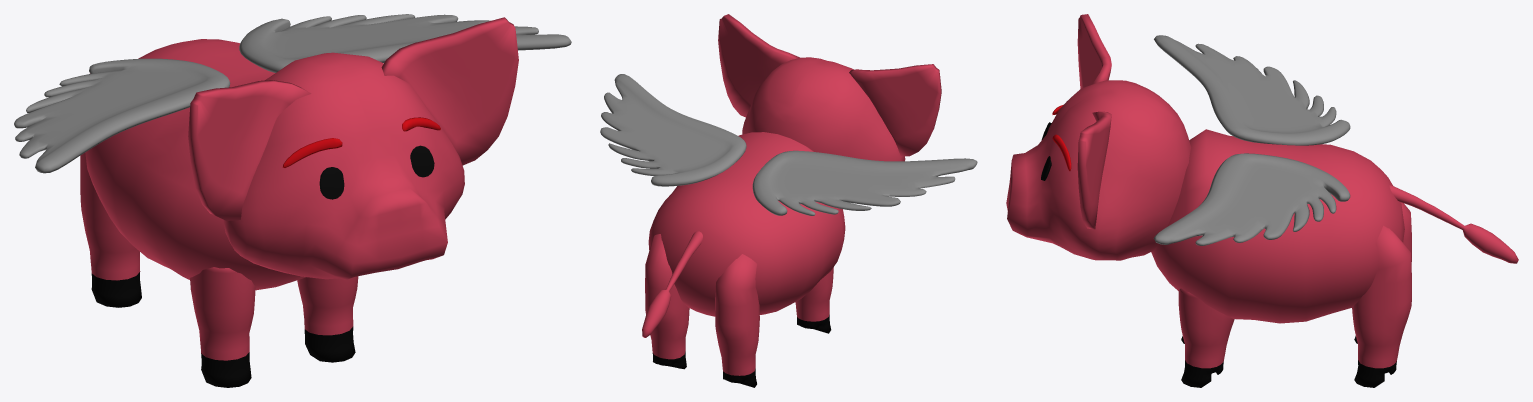
Rendered from Pig_low.fbx.
3 views of the same model, side by side, from view 1: azimuth 30°, elevation 25°; view 2: azimuth 150°, elevation 25°; view 3: azimuth 270°, elevation 25° (orthographic). The views are drawn at different scales.
Parts seen in each view (by area): view 1: Head_low, Wings_low, Ear_low, Body_low, Front_low, BackLegs_low, Eyes_low, Eyebrows_low; view 2: Wings_low, Body_low, Head_low, Ear_low, BackLegs_low, Front_low, Tail_low; view 3: Body_low, Head_low, Wings_low, BackLegs_low, Ear_low, Front_low, Tail_low.
Boxes of the visible parts, x1,y1,x2,y2 form: Head_low: (223, 52, 464, 279); Wings_low: (14, 14, 571, 173); Ear_low: (188, 17, 518, 220); Body_low: (85, 39, 305, 290); Front_low: (190, 267, 358, 387); BackLegs_low: (80, 153, 141, 307); Eyes_low: (319, 145, 434, 199); Eyebrows_low: (282, 117, 440, 167); Wings_low: (600, 74, 977, 215); Body_low: (648, 132, 845, 316); Head_low: (742, 57, 905, 161); Ear_low: (718, 14, 941, 156); BackLegs_low: (645, 234, 759, 387); Front_low: (795, 267, 833, 333); Tail_low: (642, 231, 702, 337); Body_low: (1151, 129, 1404, 323); Head_low: (1006, 80, 1190, 260); Wings_low: (1153, 35, 1350, 245); BackLegs_low: (1352, 202, 1411, 387); Ear_low: (1077, 14, 1111, 229); Front_low: (1178, 288, 1234, 387); Tail_low: (1389, 185, 1518, 263).
Size of the model in its own units: 607 by 395 by 640.
